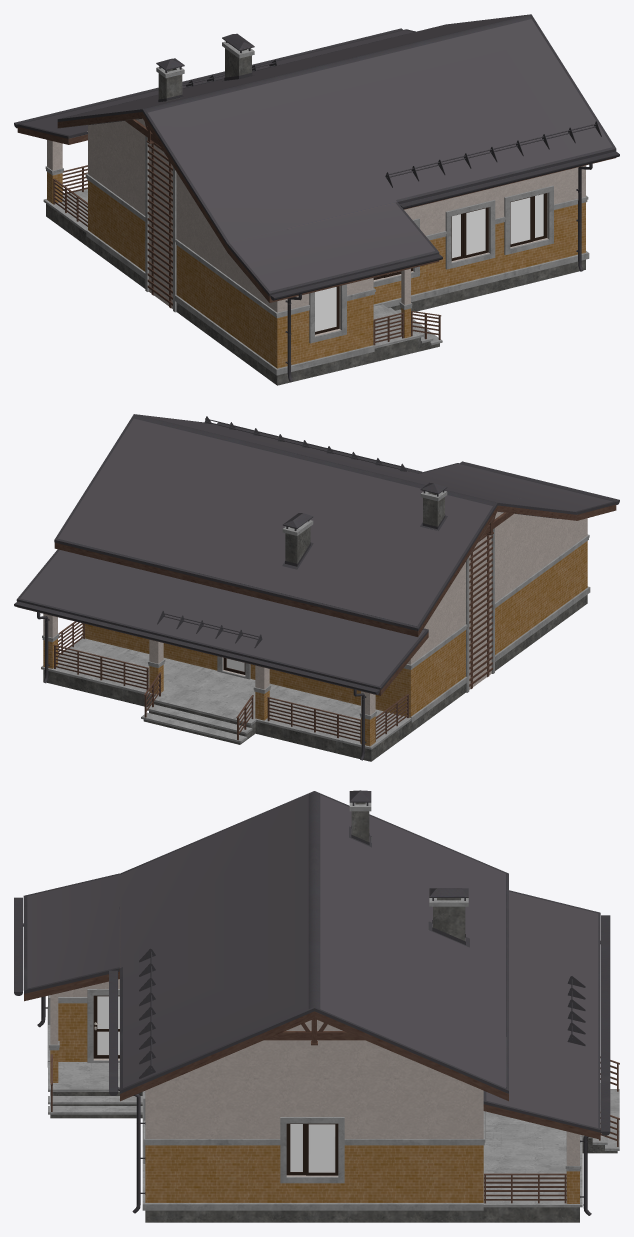
The model's file is modern_brick_cabin_game_ready_3d_house.glb.
3 renders of one model, top to bottom at view 1: azimuth 30°, elevation 25°; view 2: azimuth 150°, elevation 25°; view 3: azimuth 270°, elevation 25°, orthographic. The views are drawn at different scales.
Parts seen in each view (by area): view 1: Cottage_Free; view 2: Cottage_Free; view 3: Cottage_Free.
Boxes of the visible parts, bbox=[...] form: Cottage_Free: bbox=[14, 14, 619, 385]; Cottage_Free: bbox=[14, 414, 619, 761]; Cottage_Free: bbox=[14, 790, 619, 1222].
Size of the model in its own units: 12.44 by 6.75 by 14.65.
Materials: 1 (1 with a texture image).
